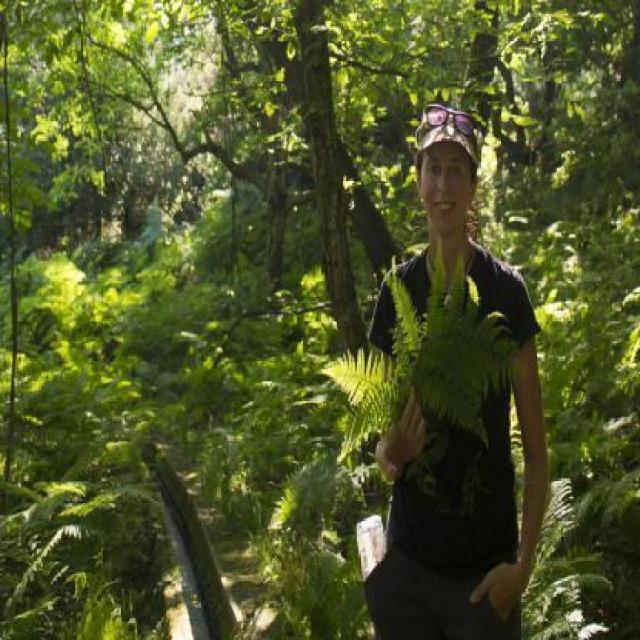face_nomask: (419, 157, 472, 218)
glasses: (367, 83, 551, 640), (416, 96, 482, 158)
hand_noglove: (464, 563, 539, 620), (379, 384, 432, 464)
